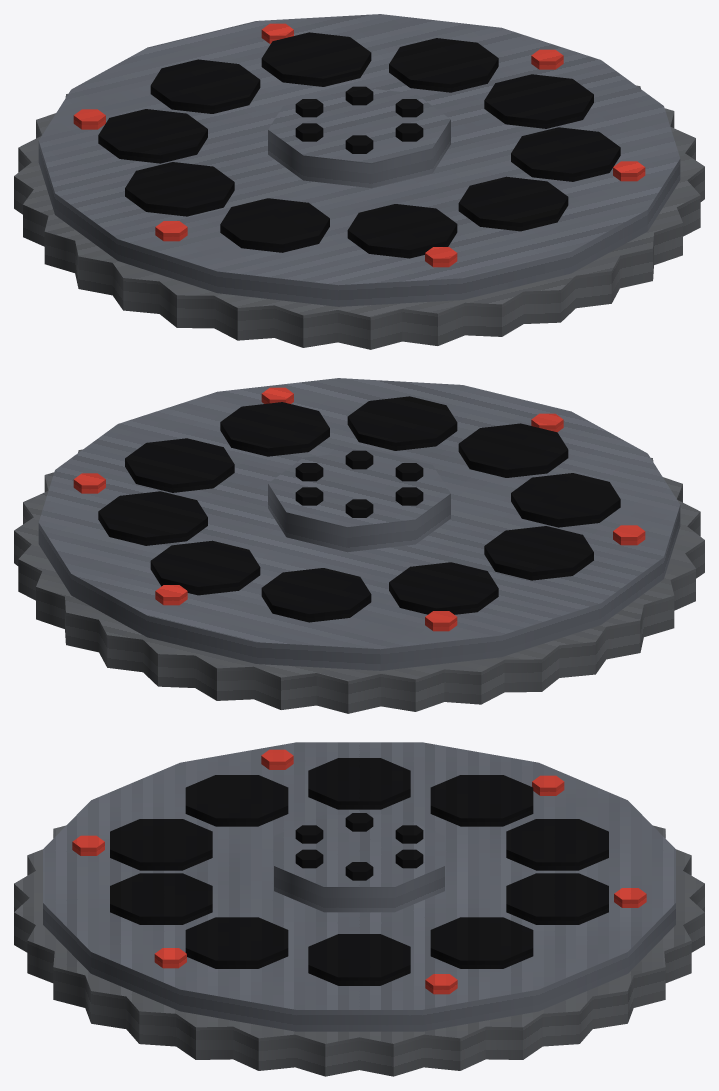
Rendered from volante_motor_n4.glb.
3 renders of one model, top to bottom at view 1: azimuth 30°, elevation 25°; view 2: azimuth 150°, elevation 25°; view 3: azimuth 270°, elevation 25°, orthographic.
Visible parts, largest first — view 1: volante_motor_n4; view 2: volante_motor_n4; view 3: volante_motor_n4.
Part boxes in pixels (x1,y1,x2,y2): volante_motor_n4: (14,14,704,349); volante_motor_n4: (14,378,704,713); volante_motor_n4: (14,742,704,1076).
Bounding box in the file's own units: 0.2986 × 0.042 × 0.2986.
2 materials, 2 textured.
